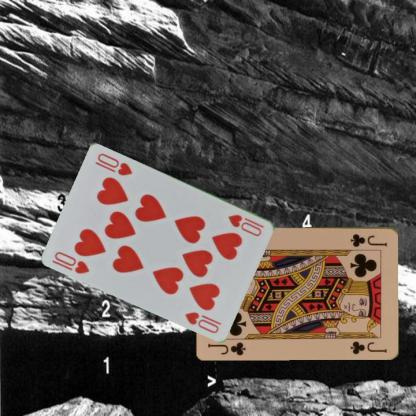10h: (225, 212, 266, 238), (52, 248, 91, 275)
Jc: (348, 230, 389, 248), (206, 339, 247, 356)
